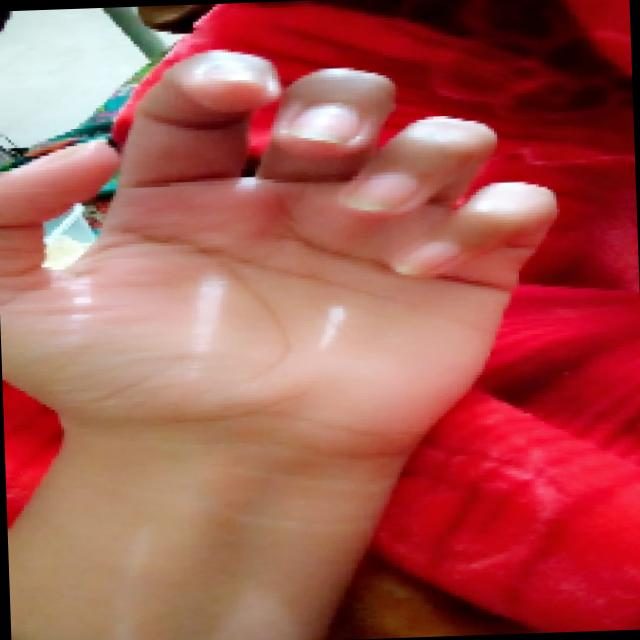Nail: (13, 142, 99, 173), (287, 105, 359, 142), (346, 174, 417, 210), (395, 240, 460, 275), (210, 55, 268, 80)
